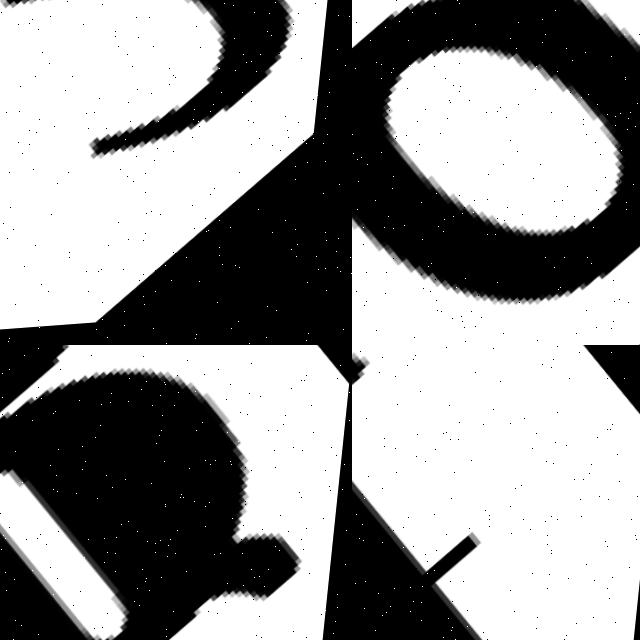3: (0, 0, 352, 345)
G: (0, 345, 352, 640)
Q: (352, 0, 640, 345)
T: (352, 345, 640, 640)
